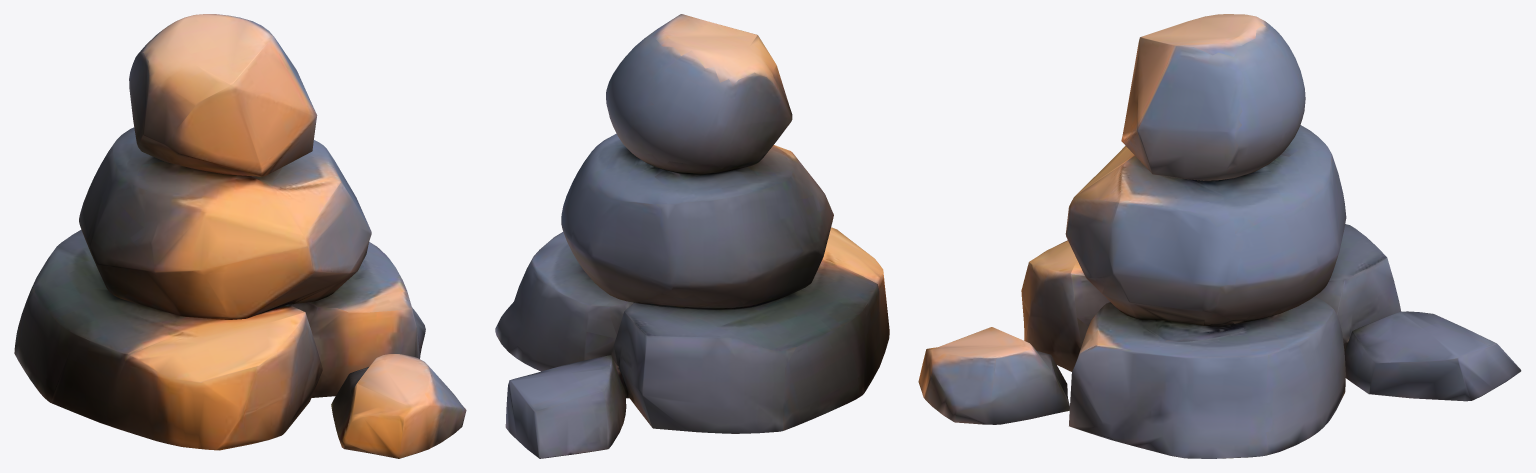
File: rock_3.glb
3 renders of one model, left to right at view 1: azimuth 30°, elevation 25°; view 2: azimuth 150°, elevation 25°; view 3: azimuth 270°, elevation 25°, orthographic. The views are drawn at different scales.
Visible parts, largest first — view 1: rock_3; view 2: rock_3; view 3: rock_3.
Part boxes in pixels (x1,y1,x2,y2): rock_3: (14,14,466,458); rock_3: (495,14,889,458); rock_3: (918,14,1521,458).
Bounding box in the file's own units: 0.3549 × 0.3138 × 0.5029.
1 material, 1 textured.
